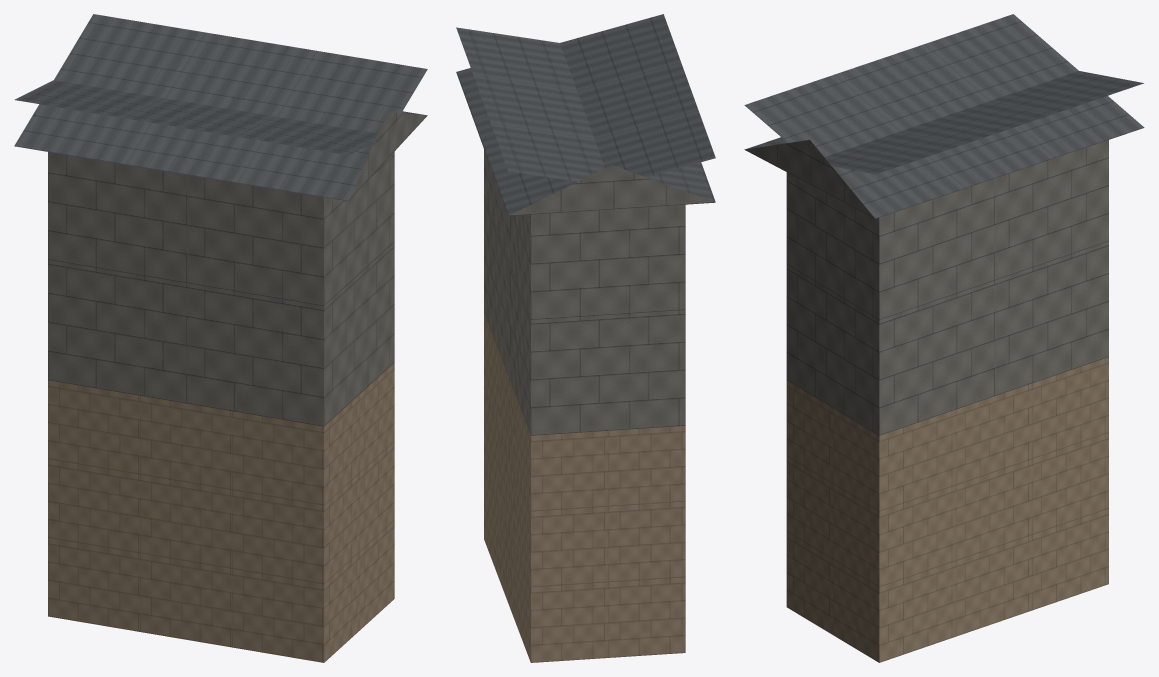
File: bld_c13_22_416.gltf
The picture shows the model from 3 angles, left to right: view 1: azimuth 30°, elevation 25°; view 2: azimuth 150°, elevation 25°; view 3: azimuth 270°, elevation 25°; orthographic projection. The views are drawn at different scales.
Visible parts, largest first — view 1: bld_c13_22_416; view 2: bld_c13_22_416; view 3: bld_c13_22_416.
Boxes of the visible parts, x1=… form: bld_c13_22_416: x1=14, y1=14, x2=427, y2=662; bld_c13_22_416: x1=456, y1=14, x2=715, y2=662; bld_c13_22_416: x1=744, y1=14, x2=1144, y2=662.
Bounding box in the file's own units: 7.73 × 11.3 × 8.15.
4 materials, 4 textured.
